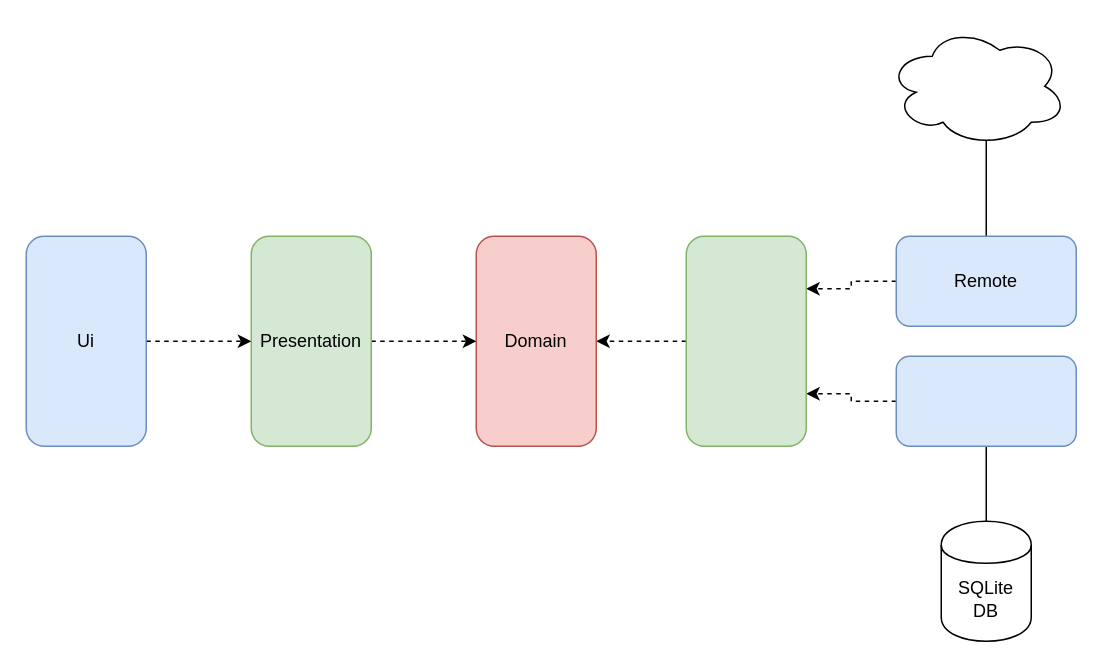
The diagram is 1103 pixels wide and 668 high, and some of its shapes have lost their labels. The shapes that lost their labels are listed below. From the top down, each one's centre as x and y in pixels, then its label:
At point (976, 85): "Web Service".
At point (745, 340): "Data".
At point (985, 400): "Cache".
